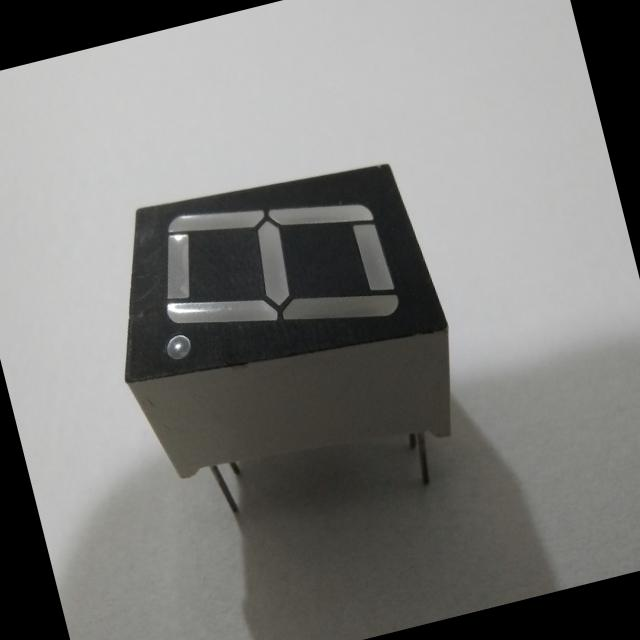7_segments: (75, 128, 495, 562)
